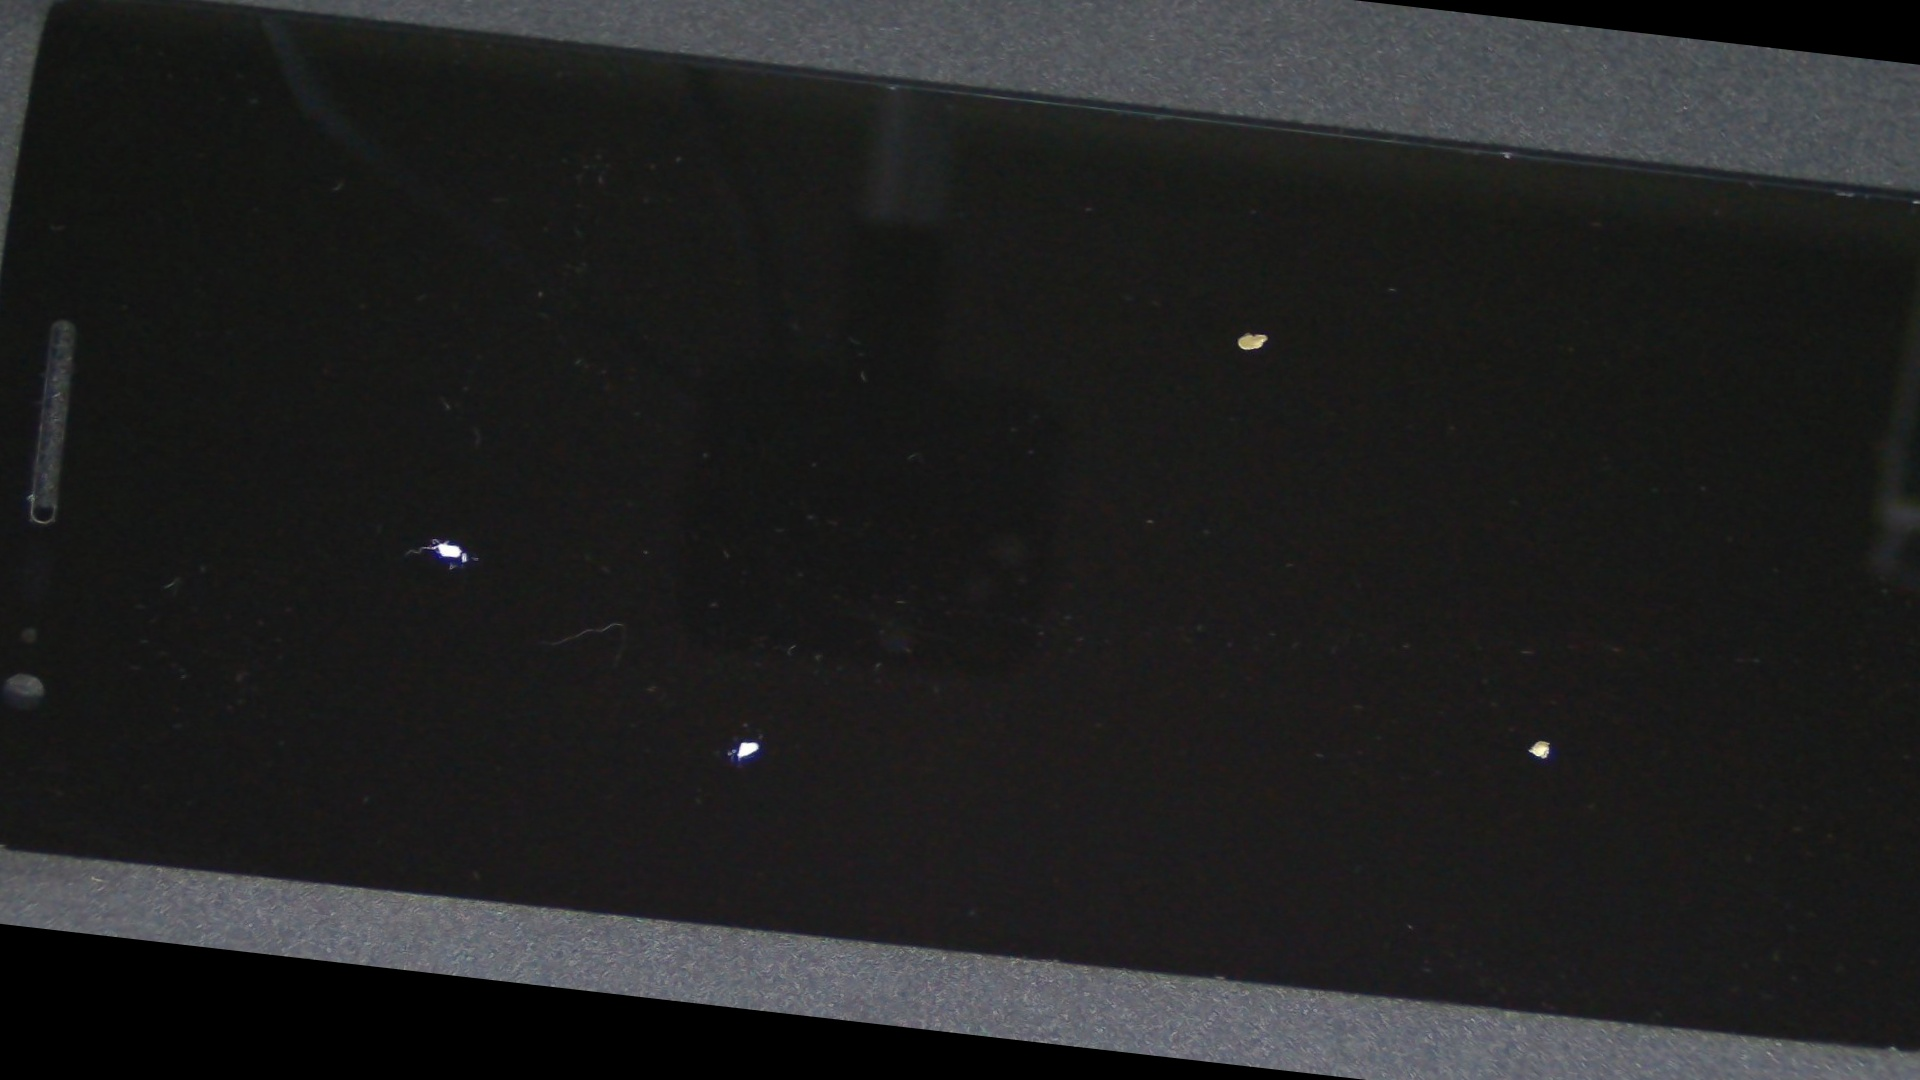oil: (641, 286, 1920, 1080), (256, 286, 1275, 1060), (547, 83, 1920, 580), (103, 185, 783, 889)
